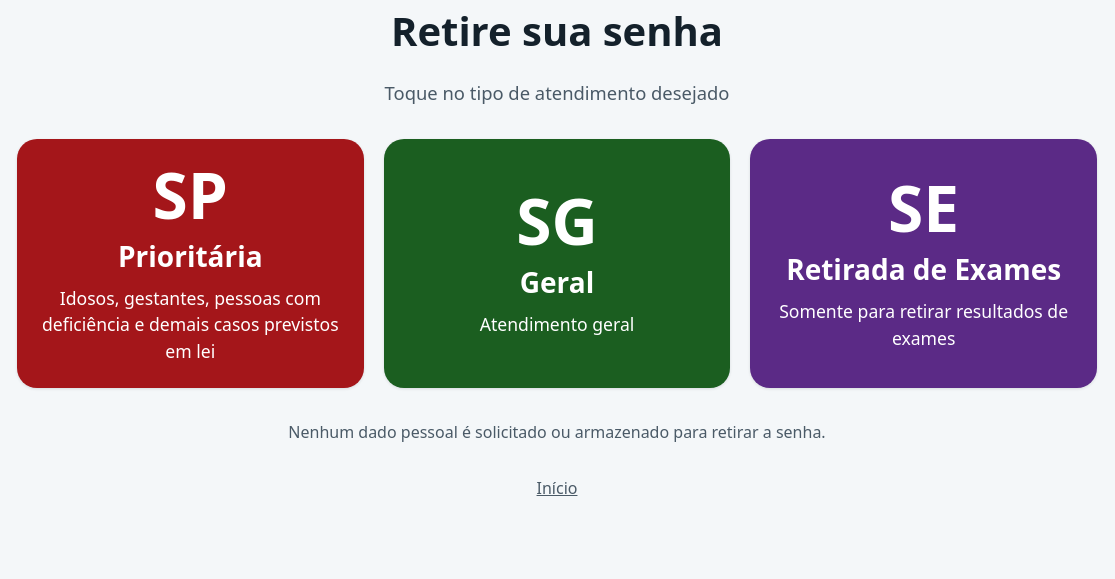
Test: Totem › emite a senha escolhida e mostra o número ao cliente
This screenshot has width=1115, height=579.
Click the button "SG Geral Atendimento geral": click(557, 264) [384,139,730,388]
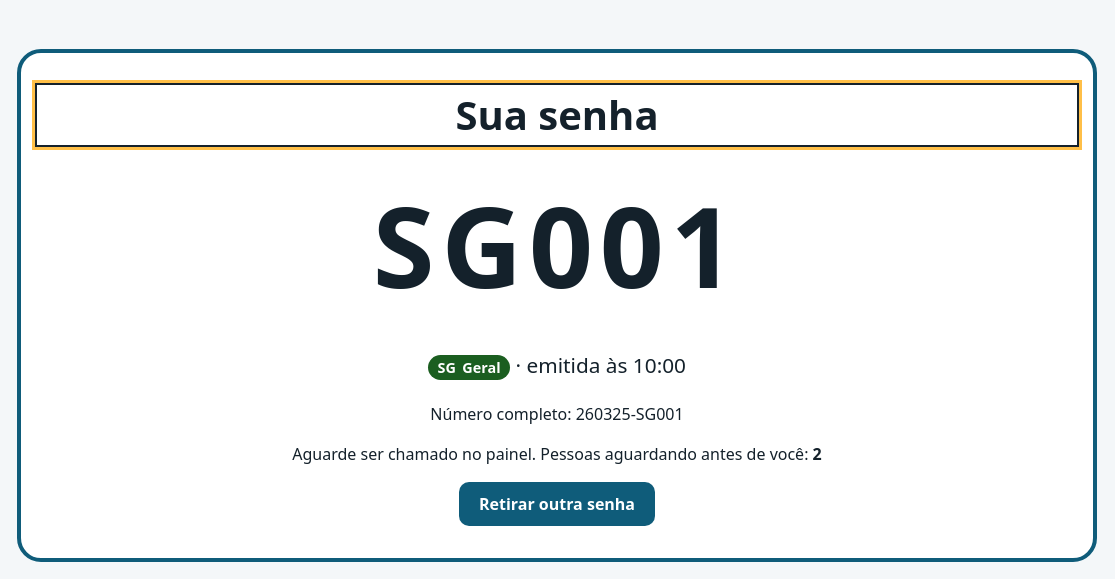
Result: the text "SG001" is shown at [373,168,741,321]
Result: the text "Aguarde ser chamado no painel" is shown at [292,443,808,465]
Result: the text "260325-SG001" is shown at [576,403,684,425]
